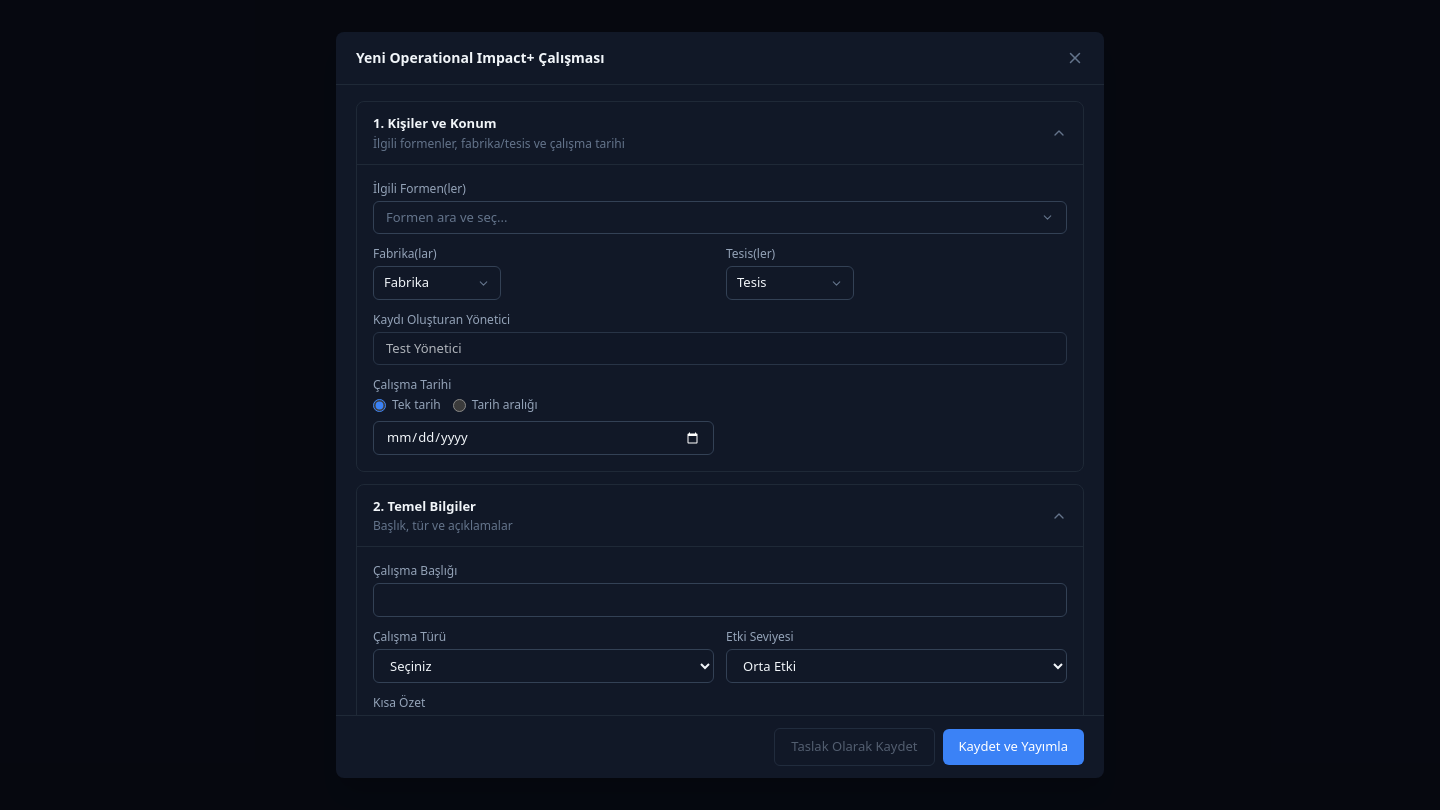
Test: ContributionWorkForm accessibility › exposes every visible field label as its control's accessible name
The width and height of the screenshot is (1440, 810).
Expected: the button named "İlgili Formen(ler)" is shown, [373,201,1067,234]
Expected: the button named "Fabrika(lar)" is shown, [373,266,501,300]
// Switching to a date range renders a second input sharing the same group label.
Click the radio button labelled "Tarih aralığı" at {"x": 459, "y": 405}, box [453,399,466,412]
(page scrolled)
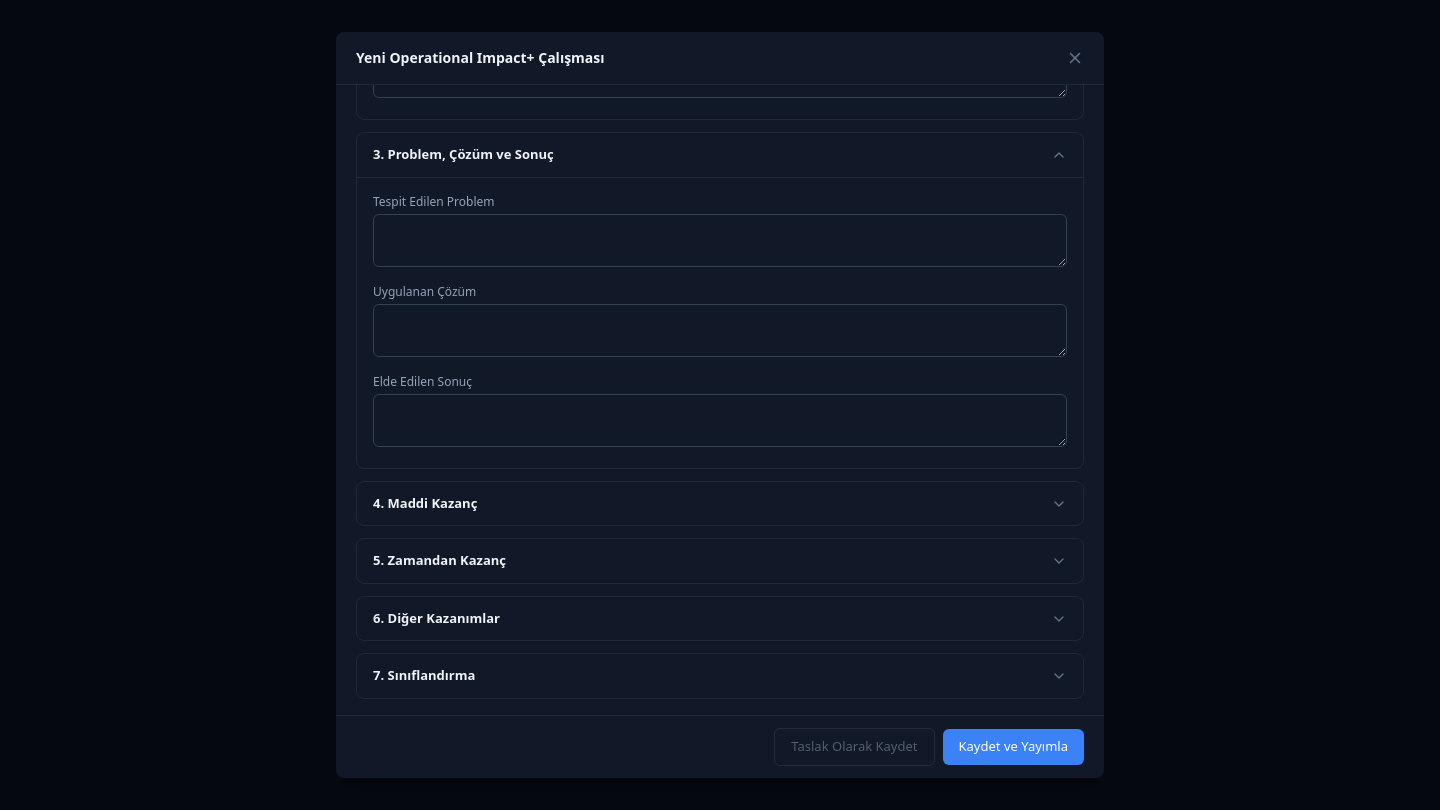
Result: the text box labelled "Tespit Edilen Problem" is shown at [373,214,1067,267]
Result: the text box labelled "Uygulanan Çözüm" is shown at [373,304,1067,357]
Result: the text box labelled "Elde Edilen Sonuç" is shown at [373,394,1067,447]
